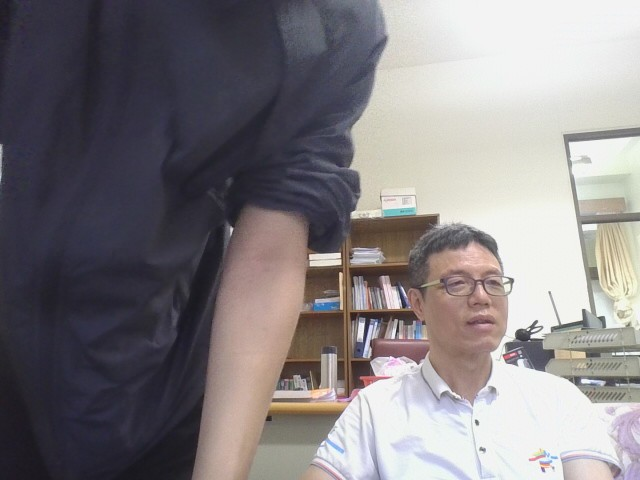No_Helmet: (401, 218, 518, 386)
person: (0, 0, 395, 480), (253, 199, 636, 480)
